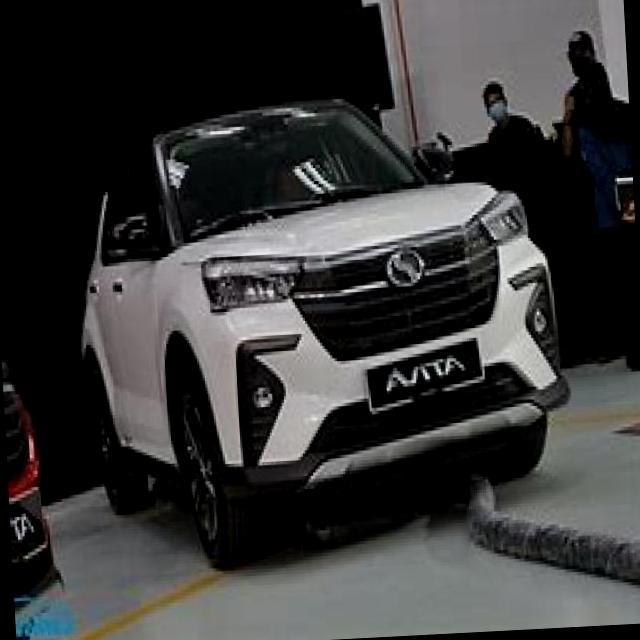PeroduaAtiva: (66, 81, 582, 575)
